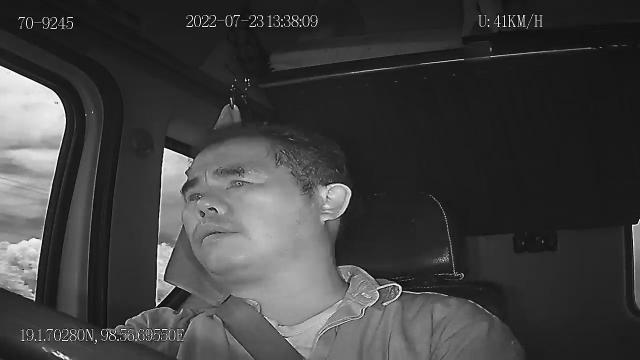SafeDriving: (214, 154, 267, 194)
Seatbelt: (218, 292, 306, 360)
